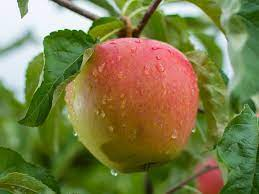tao: (49, 27, 217, 172)
